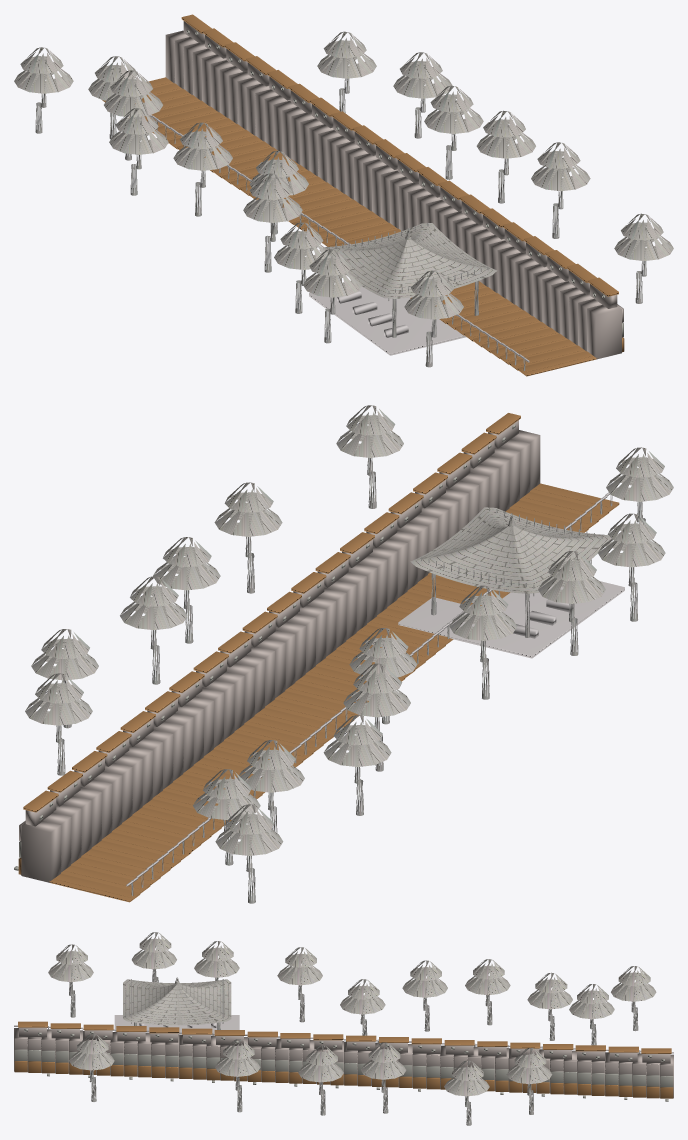
3 views of the same model, one above another, from view 1: azimuth 30°, elevation 25°; view 2: azimuth 150°, elevation 25°; view 3: azimuth 270°, elevation 25° (orthographic). The views are drawn at different scales.
Visible parts, largest first — view 1: naksan_ridge_pine_trees, naksan_city_wall_masonry, naksan_ridge_trail_and_ground, naksan_parapet_yeojang, naksan_pavilion_roof, naksan_observatory_deck_plaza; view 2: naksan_ridge_pine_trees, naksan_city_wall_masonry, naksan_ridge_trail_and_ground, naksan_parapet_yeojang, naksan_pavilion_roof, naksan_observatory_deck_plaza; view 3: naksan_ridge_pine_trees, naksan_city_wall_masonry, naksan_parapet_yeojang, naksan_pavilion_roof, naksan_observatory_deck_plaza.
Boxes of the visible parts, x1,y1,x2,y2 form: naksan_ridge_pine_trees: [14, 31, 673, 367]; naksan_city_wall_masonry: [165, 30, 624, 359]; naksan_ridge_trail_and_ground: [102, 77, 597, 376]; naksan_parapet_yeojang: [181, 14, 618, 308]; naksan_pavilion_roof: [319, 223, 497, 300]; naksan_observatory_deck_plaza: [309, 278, 478, 355]; naksan_ridge_pine_trees: [25, 405, 673, 903]; naksan_city_wall_masonry: [14, 430, 540, 882]; naksan_ridge_trail_and_ground: [49, 483, 619, 902]; naksan_parapet_yeojang: [23, 413, 520, 826]; naksan_pavilion_roof: [410, 507, 611, 596]; naksan_observatory_deck_plaza: [398, 559, 624, 658]; naksan_ridge_pine_trees: [48, 932, 656, 1125]; naksan_city_wall_masonry: [14, 1028, 673, 1101]; naksan_parapet_yeojang: [18, 1021, 671, 1063]; naksan_pavilion_roof: [123, 977, 231, 1025]; naksan_observatory_deck_plaza: [114, 1015, 239, 1035].
Bounding box in the file's own units: 29.4 × 10.04 × 63.35.
Materials: 5 (5 with a texture image).
